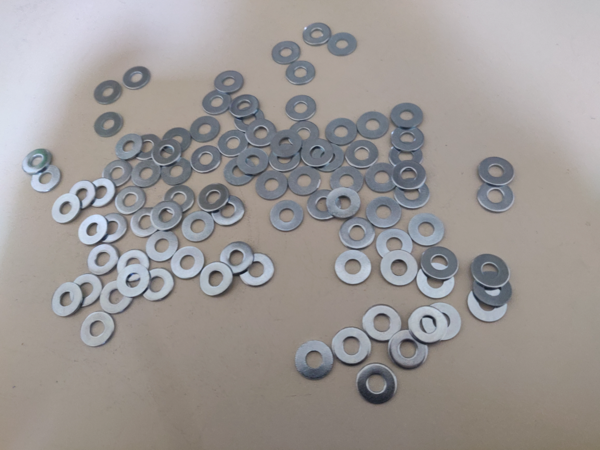circle: (355, 363, 398, 406), (388, 329, 429, 371), (422, 303, 462, 344), (362, 304, 404, 343), (331, 327, 371, 367), (294, 341, 334, 381), (468, 286, 508, 323), (379, 250, 419, 287), (470, 253, 509, 290), (408, 306, 445, 345), (472, 271, 513, 306), (420, 246, 458, 282), (334, 250, 372, 286), (79, 311, 115, 349), (218, 241, 254, 278), (239, 252, 275, 289), (417, 263, 455, 298), (69, 272, 104, 310), (99, 279, 133, 317), (169, 246, 205, 281), (140, 267, 175, 303), (393, 177, 431, 210), (376, 228, 412, 262), (287, 165, 323, 199), (329, 164, 365, 198), (199, 262, 233, 298), (116, 248, 150, 284), (477, 181, 514, 214), (408, 213, 445, 246), (325, 187, 362, 220), (339, 217, 374, 251), (98, 157, 133, 191), (268, 200, 304, 233), (51, 282, 83, 319), (145, 229, 179, 263), (116, 265, 150, 299), (365, 160, 398, 195), (310, 141, 345, 174), (391, 160, 427, 192), (477, 157, 514, 188), (49, 192, 82, 226), (366, 197, 401, 229), (388, 141, 425, 171), (130, 157, 163, 190), (345, 138, 379, 170), (244, 118, 278, 150), (212, 197, 246, 229), (158, 155, 192, 187), (87, 243, 119, 277), (356, 109, 389, 141), (85, 177, 118, 209), (181, 211, 214, 243), (114, 184, 147, 216), (96, 212, 129, 244), (306, 190, 340, 221), (129, 206, 160, 240), (255, 170, 288, 201), (237, 146, 270, 177), (77, 214, 108, 247), (284, 93, 318, 123), (324, 118, 359, 147), (224, 157, 257, 187), (29, 164, 62, 194), (217, 129, 251, 158), (391, 125, 426, 153), (163, 185, 195, 215), (390, 102, 424, 130), (199, 183, 229, 214), (270, 130, 302, 159), (201, 88, 233, 117), (131, 134, 163, 163), (92, 110, 125, 138), (161, 128, 194, 156), (232, 106, 266, 133), (67, 180, 96, 211), (301, 139, 333, 167), (190, 146, 222, 174), (284, 59, 317, 86), (289, 121, 320, 149), (21, 148, 53, 175), (153, 139, 182, 168), (114, 133, 143, 162), (326, 32, 358, 58), (229, 93, 260, 119), (213, 70, 245, 95), (94, 79, 123, 105), (302, 22, 332, 47), (271, 41, 301, 66), (121, 65, 151, 90), (190, 117, 220, 142)
